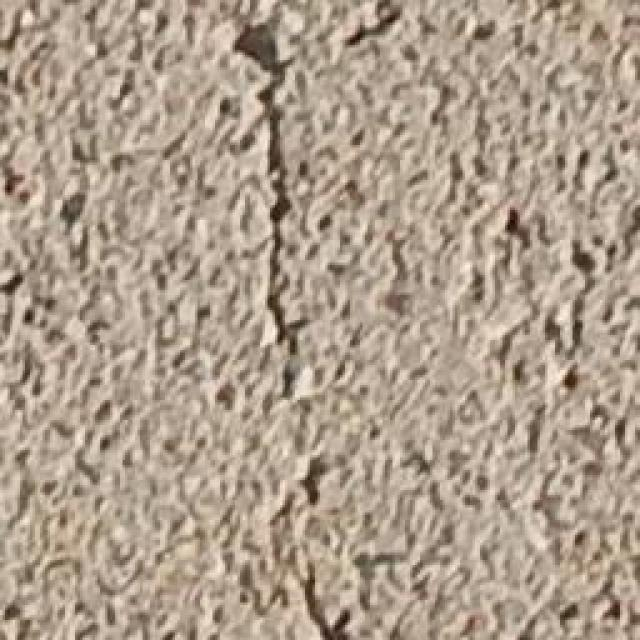concrete-crack: (227, 6, 310, 448)
